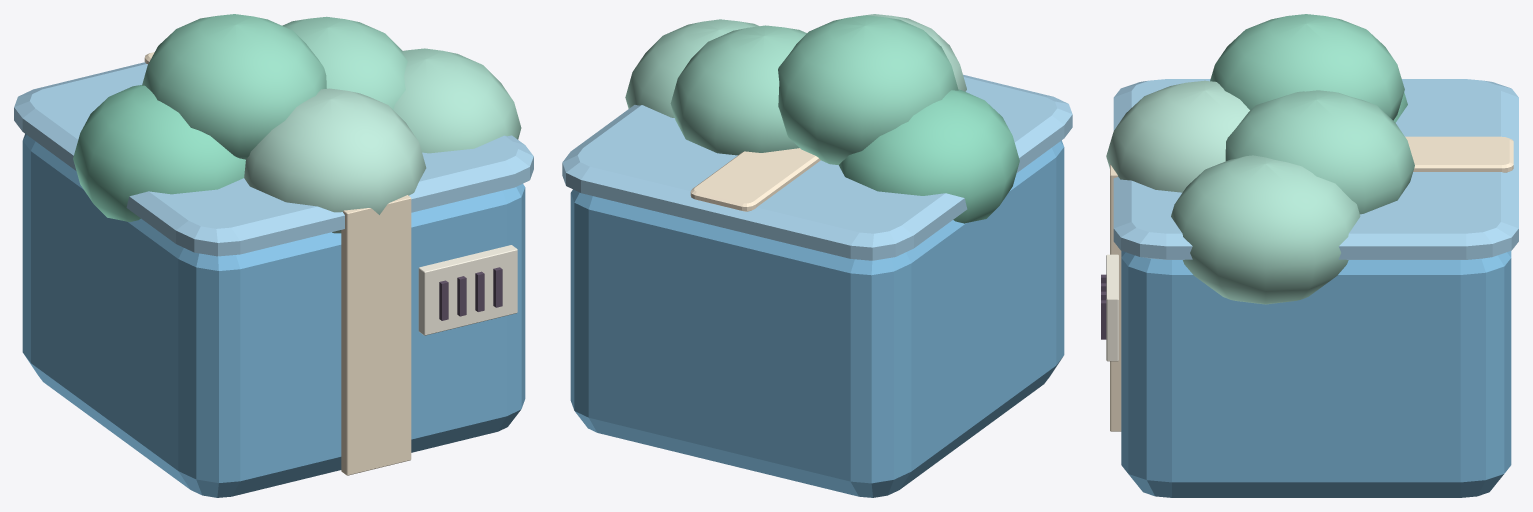
Rendered from foam_crate.glb.
3 views of the same model, side by side, from view 1: azimuth 30°, elevation 25°; view 2: azimuth 150°, elevation 25°; view 3: azimuth 270°, elevation 25° (orthographic). The views are drawn at different scales.
Visible parts, largest first — view 1: carton, model, lid, label; view 2: carton, model, lid, ribbon; view 3: carton, model, lid, ribbon, label.
Boxes of the visible parts, <box> form: carton: <box>22,134,525,497</box>; model: <box>73,14,521,475</box>; lid: <box>14,62,533,256</box>; label: <box>418,245,517,335</box>; carton: <box>570,140,1064,497</box>; model: <box>625,14,1019,223</box>; lid: <box>562,74,1072,260</box>; ribbon: <box>690,148,820,211</box>; carton: <box>1121,251,1511,497</box>; model: <box>1101,14,1414,431</box>; lid: <box>1113,79,1518,259</box>; ribbon: <box>1405,136,1513,172</box>; label: <box>1106,254,1118,361</box>.
Size of the model in its own units: 0.75 by 0.7 by 0.7.
